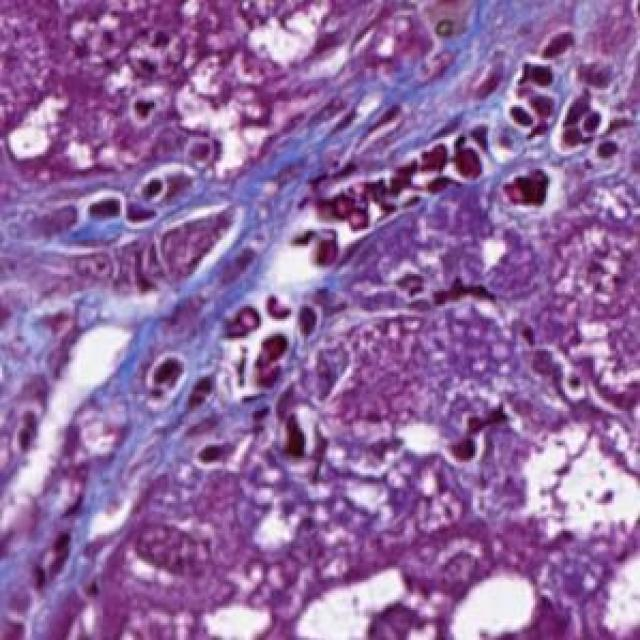inflammation: (77, 178, 178, 233)
